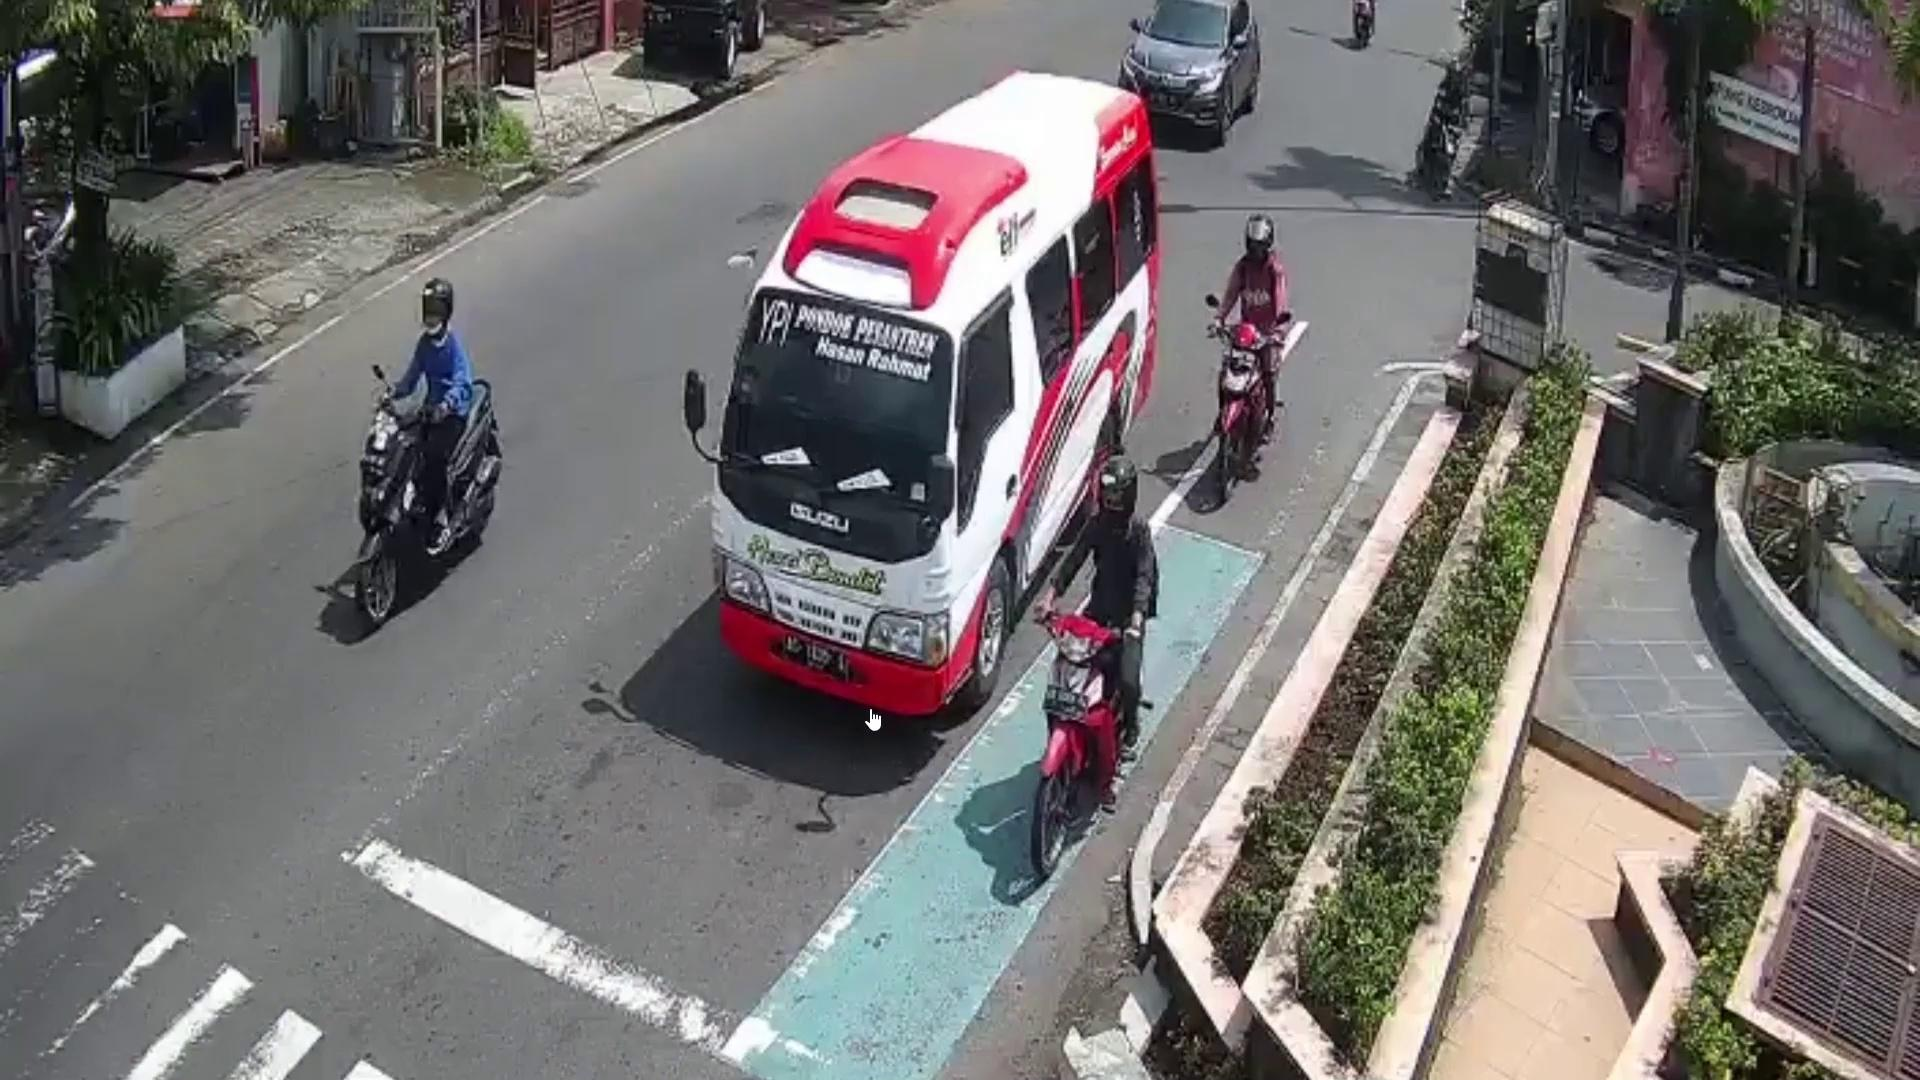bus: (721, 74, 1159, 708)
car: (1118, 0, 1263, 145)
motorbike: (351, 377, 500, 625), (1031, 611, 1125, 876), (1211, 323, 1283, 497), (1418, 103, 1470, 189)
